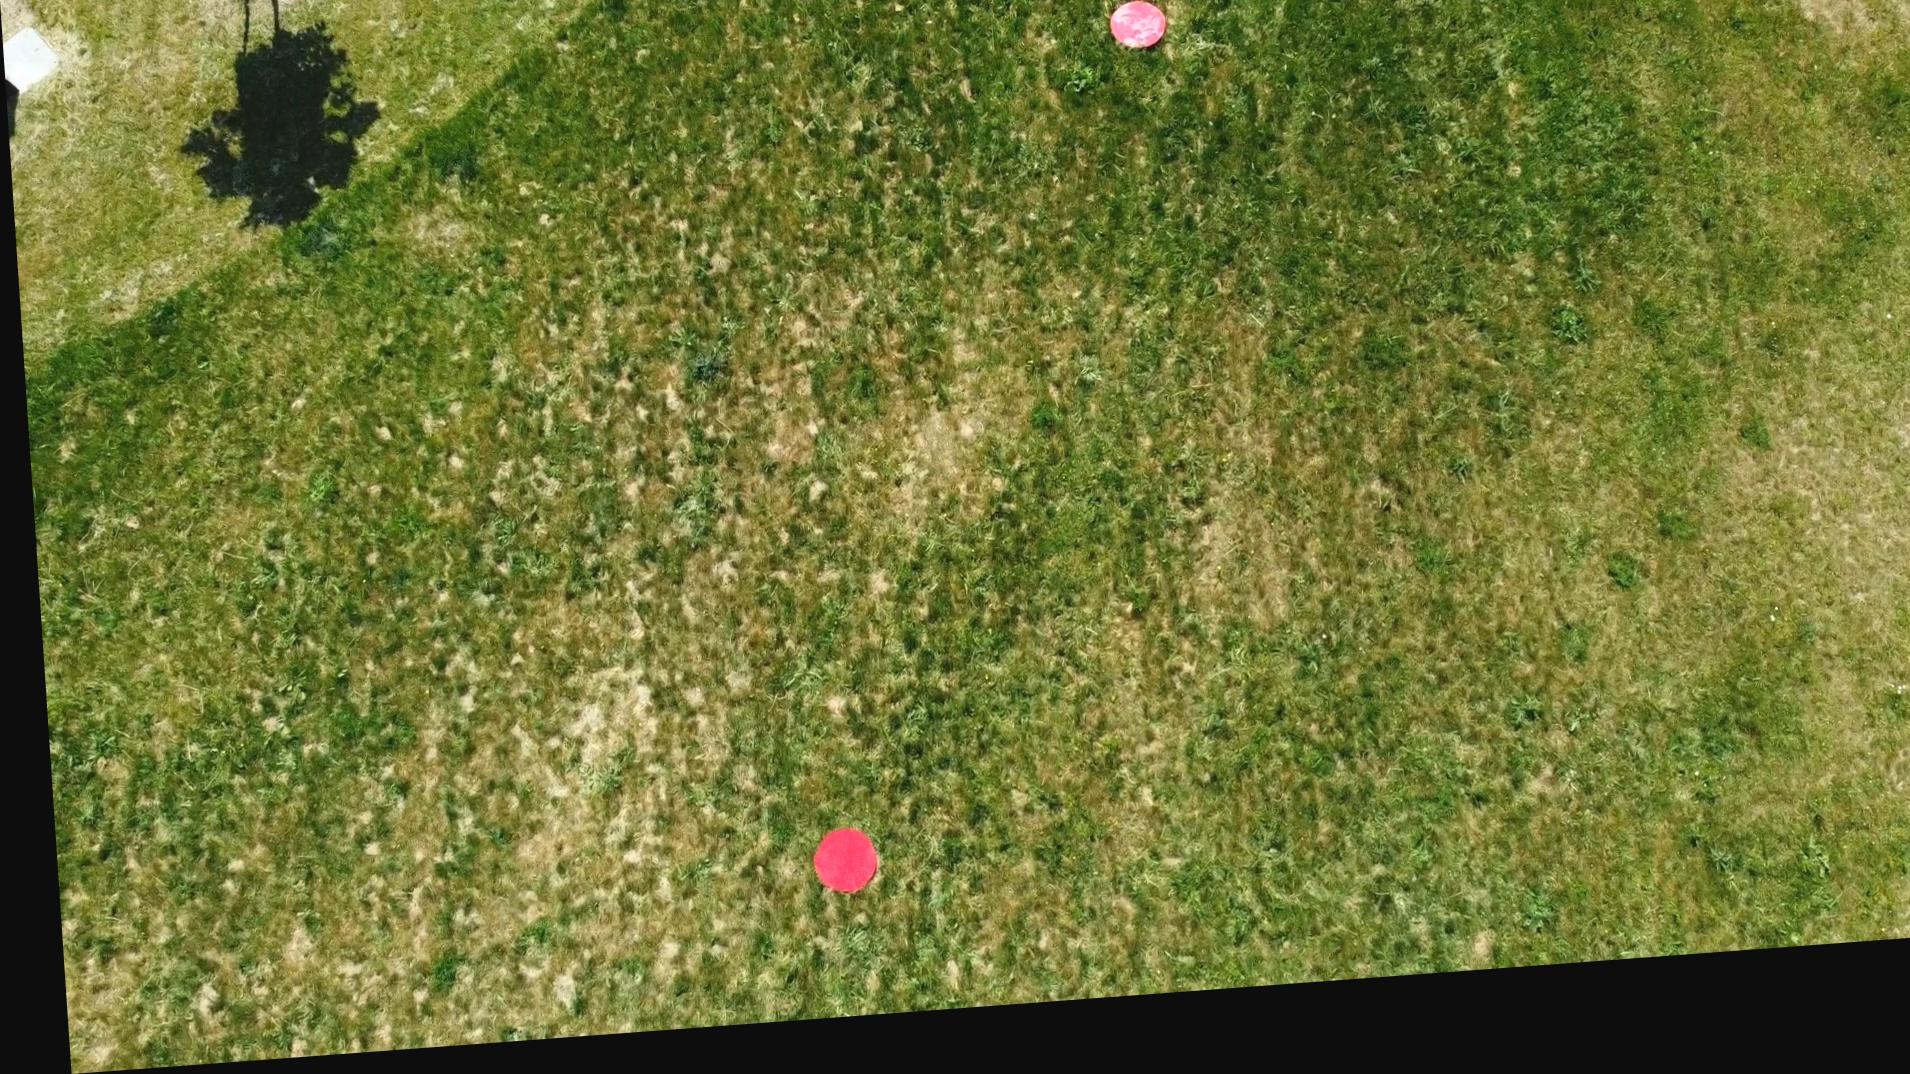Red: (796, 838, 868, 909), (1106, 12, 1170, 71)
